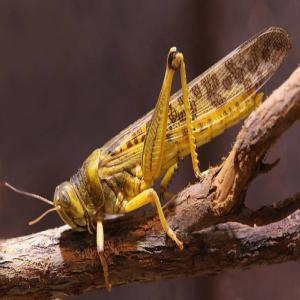locust: (47, 25, 291, 261)
